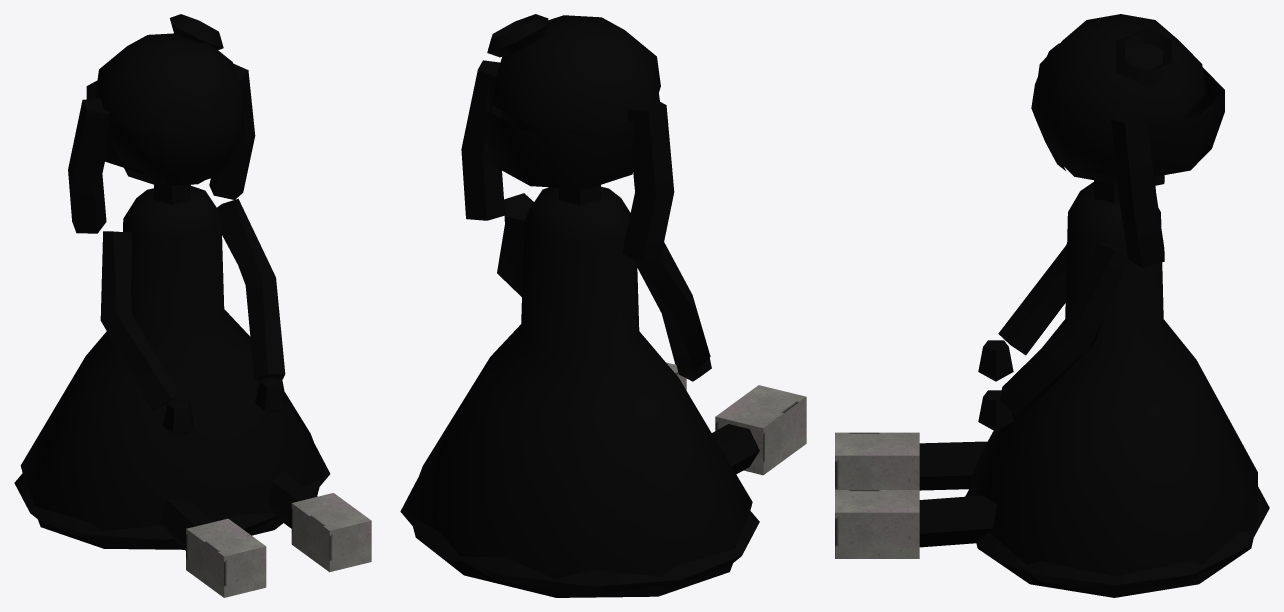
The model's file is doll_porcelain.fbx.
3 renders of one model, left to right at view 1: azimuth 30°, elevation 25°; view 2: azimuth 150°, elevation 25°; view 3: azimuth 270°, elevation 25°, orthographic. The views are drawn at different scales.
Visible parts, largest first — view 1: doll_porcelain, doll_porcelain_head; view 2: doll_porcelain, doll_porcelain_head; view 3: doll_porcelain, doll_porcelain_head.
Boxes of the visible parts, x1,y1,x2,y2 form: doll_porcelain: (14, 184, 371, 597); doll_porcelain_head: (68, 14, 255, 233); doll_porcelain: (400, 185, 806, 597); doll_porcelain_head: (461, 14, 674, 261); doll_porcelain: (835, 180, 1269, 597); doll_porcelain_head: (1031, 14, 1224, 267).
Bounding box in the file's own units: 0.216 × 0.3332 × 0.2568.
